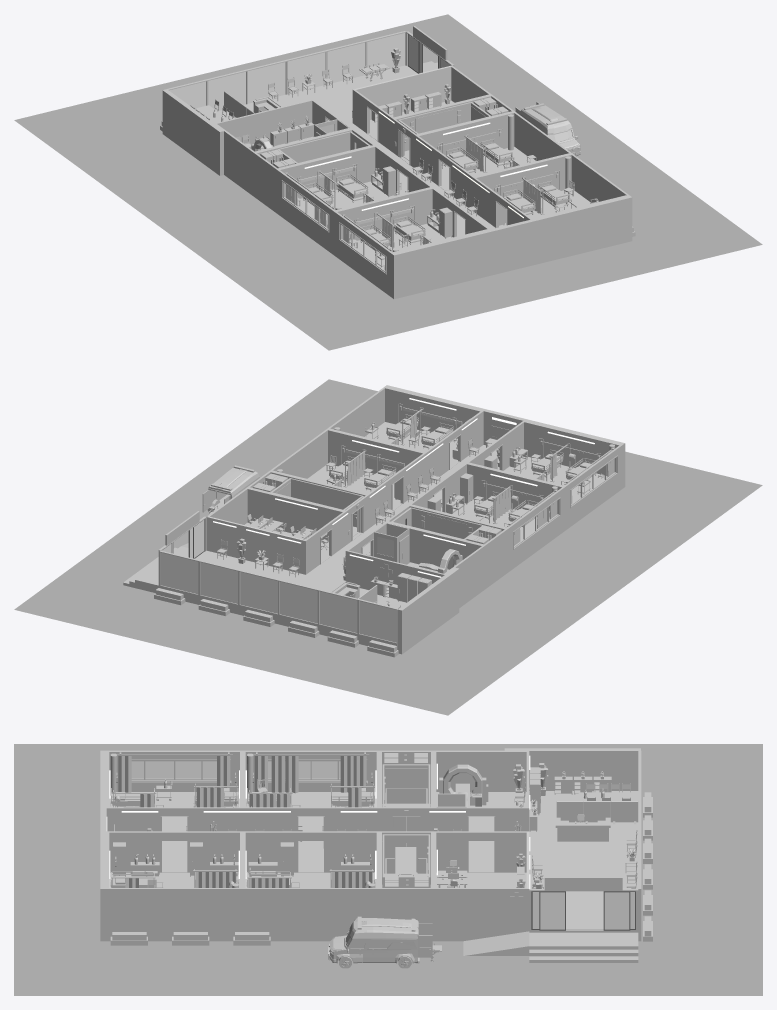
Rendered from HOSPITAL F1.fbx.
3 views of the same model, one above another, from view 1: azimuth 30°, elevation 25°; view 2: azimuth 150°, elevation 25°; view 3: azimuth 270°, elevation 25° (orthographic). The views are drawn at different scales.
Visible parts, largest first — view 1: Ground Plane_0, Hospital Outer Wall 01_140, Hospital Outer Wall 01 (1)_434, Hospital Outer Wall 01 (3)_420, Hospital Room Right Wall 01 Blue_84, Hospital Room Right Wall 01 Blue_135, Hospital Room Left Wall 02 Blue_263, Hospital Room Right Wall 02 Blue_326, Hospital Corridor 01 (7)_437, Hospital Room Left Wall 01 Blue_234, Hospital Room Left Wall 01 Blue_185, Hospital Outer Wall 01 (2)_433 (+29 smaller); view 2: Ground Plane_0, Hospital Room Left Wall 02 Blue_263, Hospital Outer Wall 01 (3)_420, Hospital Room Right Wall 02 Blue_264, Hospital Room Left Wall 01 Blue_128, Hospital Room Right Wall 01 Blue_189, Hospital Room Right Wall 01 Blue_238, Hospital Room Left Wall 01 Blue_74, Hospital Room Right Wall 02 Blue_326, Hospital Corridor 01 (6)_438, Hospital Room Front Wall 01 Blue_192, Hospital Room Front Wall 01 Blue_241 (+29 smaller); view 3: Ground Plane_0, Hospital Main Entrance 01_443, Hospital Room Back Wall 01 Blue_188, Hospital Room Back Wall 01 Blue_237, Hospital Outer Wall 02 3.5m_261, Hospital Corridor 01 (6)_438, Hospital Room Front Wall 01 Blue_241, Hospital Outer Wall 01 (3)_420, Ambulance Hospital 02_28, Hospital Corridor 01 (7)_437, Hospital Room Front Wall 01 Blue_192, Hospital Room Front Wall 01 Blue_87 (+39 smaller).
Boxes of the visible parts, x1,y1,x2,y2 form: Ground Plane_0: [14, 14, 762, 350]; Hospital Outer Wall 01_140: [391, 229, 493, 299]; Hospital Outer Wall 01 (1)_434: [531, 195, 632, 265]; Hospital Outer Wall 01 (3)_420: [162, 89, 223, 175]; Hospital Room Right Wall 01 Blue_84: [278, 145, 375, 198]; Hospital Room Right Wall 01 Blue_135: [335, 187, 432, 240]; Hospital Room Left Wall 02 Blue_263: [353, 65, 451, 119]; Hospital Room Right Wall 02 Blue_326: [214, 99, 312, 147]; Hospital Corridor 01 (7)_437: [218, 65, 417, 119]; Hospital Room Left Wall 01 Blue_234: [416, 111, 514, 155]; Hospital Room Left Wall 01 Blue_185: [474, 153, 571, 197]; Hospital Outer Wall 01 (2)_433: [491, 219, 532, 274]; Ground Plane_0: [14, 379, 762, 715]; Hospital Room Left Wall 02 Blue_263: [206, 516, 305, 574]; Hospital Outer Wall 01 (3)_420: [398, 567, 459, 654]; Hospital Room Right Wall 02 Blue_264: [247, 487, 345, 540]; Hospital Room Left Wall 01 Blue_128: [523, 421, 621, 475]; Hospital Room Right Wall 01 Blue_189: [384, 387, 483, 438]; Hospital Room Right Wall 01 Blue_238: [327, 429, 425, 474]; Hospital Room Left Wall 01 Blue_74: [466, 463, 563, 511]; Hospital Room Right Wall 02 Blue_326: [345, 550, 444, 589]; Hospital Corridor 01 (6)_438: [195, 550, 406, 607]; Hospital Room Front Wall 01 Blue_192: [425, 411, 483, 484]; Hospital Room Front Wall 01 Blue_241: [368, 453, 426, 528]; Ground Plane_0: [14, 744, 762, 995]; Hospital Main Entrance 01_443: [463, 877, 638, 962]; Hospital Room Back Wall 01 Blue_188: [106, 888, 242, 928]; Hospital Room Back Wall 01 Blue_237: [243, 888, 379, 928]; Hospital Outer Wall 02 3.5m_261: [433, 888, 529, 928]; Hospital Corridor 01 (6)_438: [529, 791, 583, 929]; Hospital Room Front Wall 01 Blue_241: [243, 831, 378, 872]; Hospital Outer Wall 01 (3)_420: [504, 748, 640, 790]; Ambulance Hospital 02_28: [328, 916, 419, 963]; Hospital Corridor 01 (7)_437: [583, 791, 638, 929]; Hospital Room Front Wall 01 Blue_192: [107, 831, 242, 872]; Hospital Room Front Wall 01 Blue_87: [243, 807, 379, 848].
Size of the model in its own units: 2186 by 264 by 2747.
Materials: 6 (1 with a texture image).
